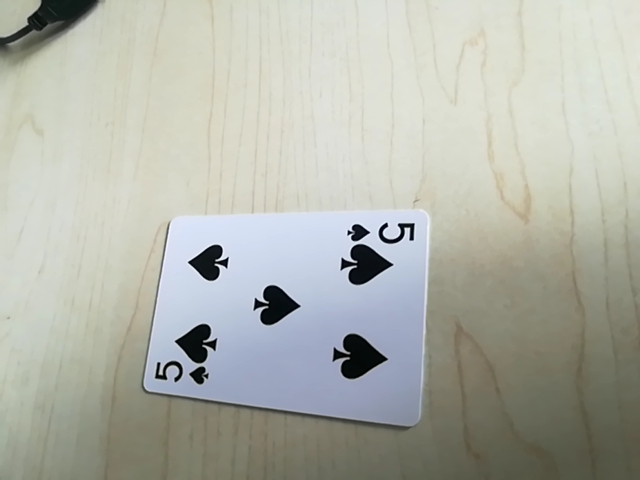ht 5: (344, 214, 419, 248), (147, 356, 216, 390)
